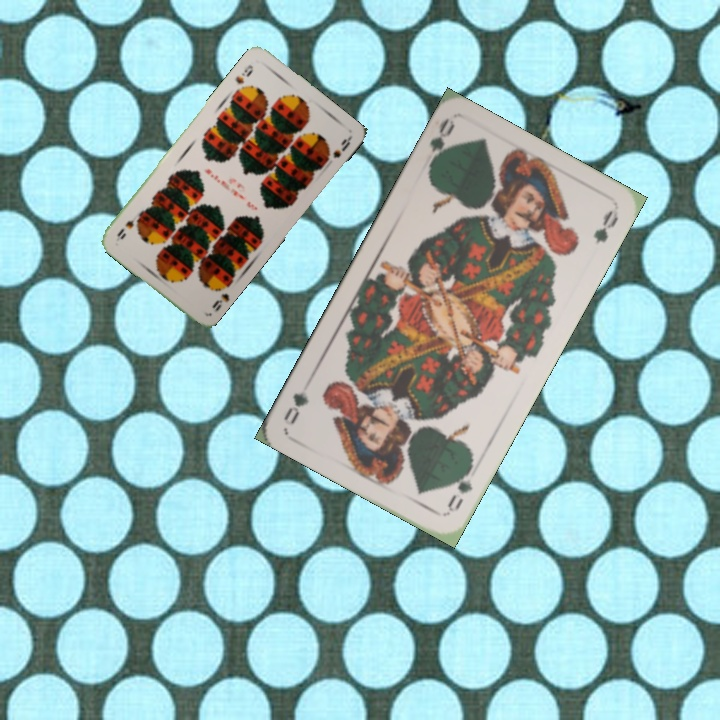GO: (424, 115, 458, 174), (443, 460, 476, 515)
S9: (231, 60, 256, 86), (208, 289, 232, 314)
